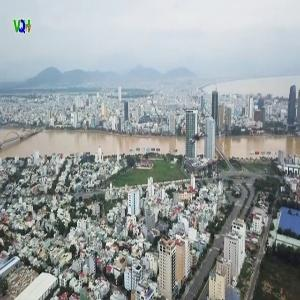drone: (172, 113, 227, 168)
